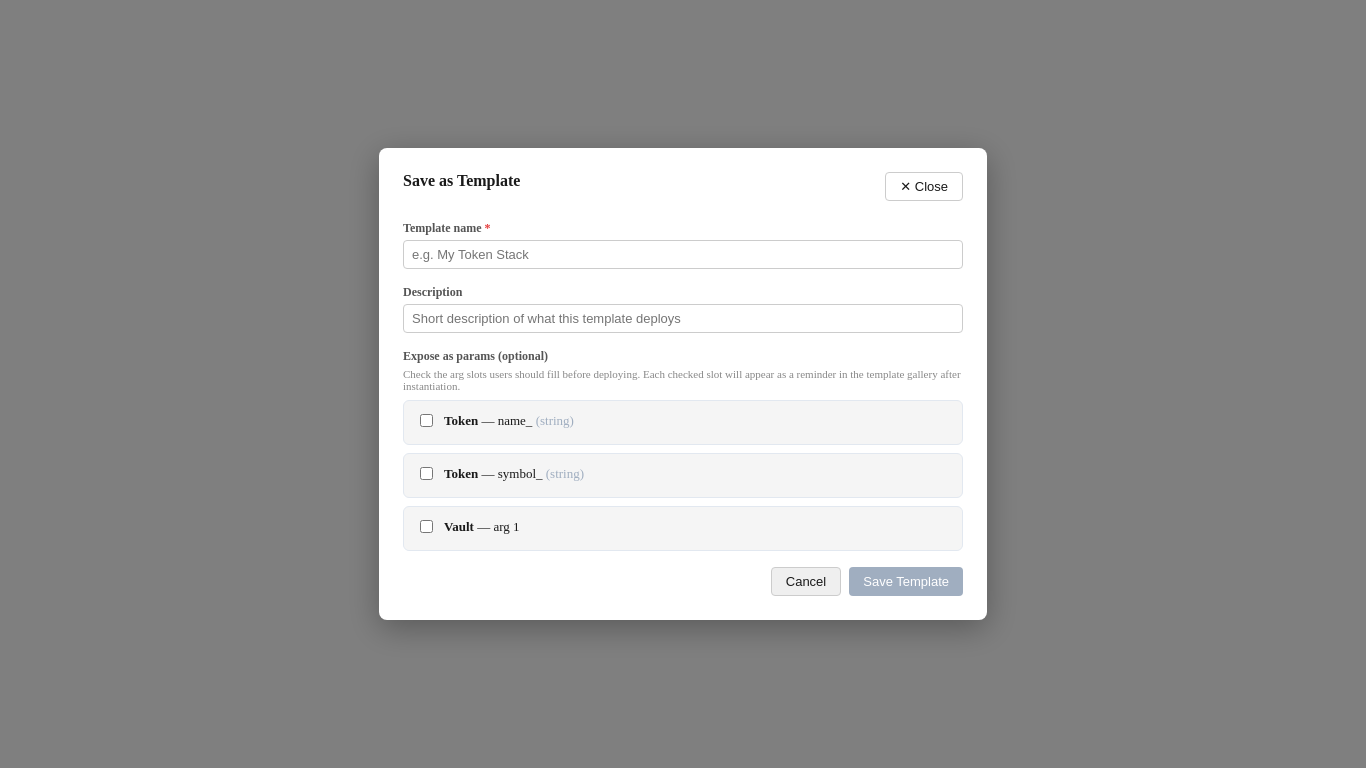
Test: SaveTemplateModal — confirm disabled when name is empty › confirm button is disabled again if name is cleared
The width and height of the screenshot is (1366, 768).
Type "My Template" into the field with test id "save-template-name" at point(683, 254), box [403, 240, 963, 269]
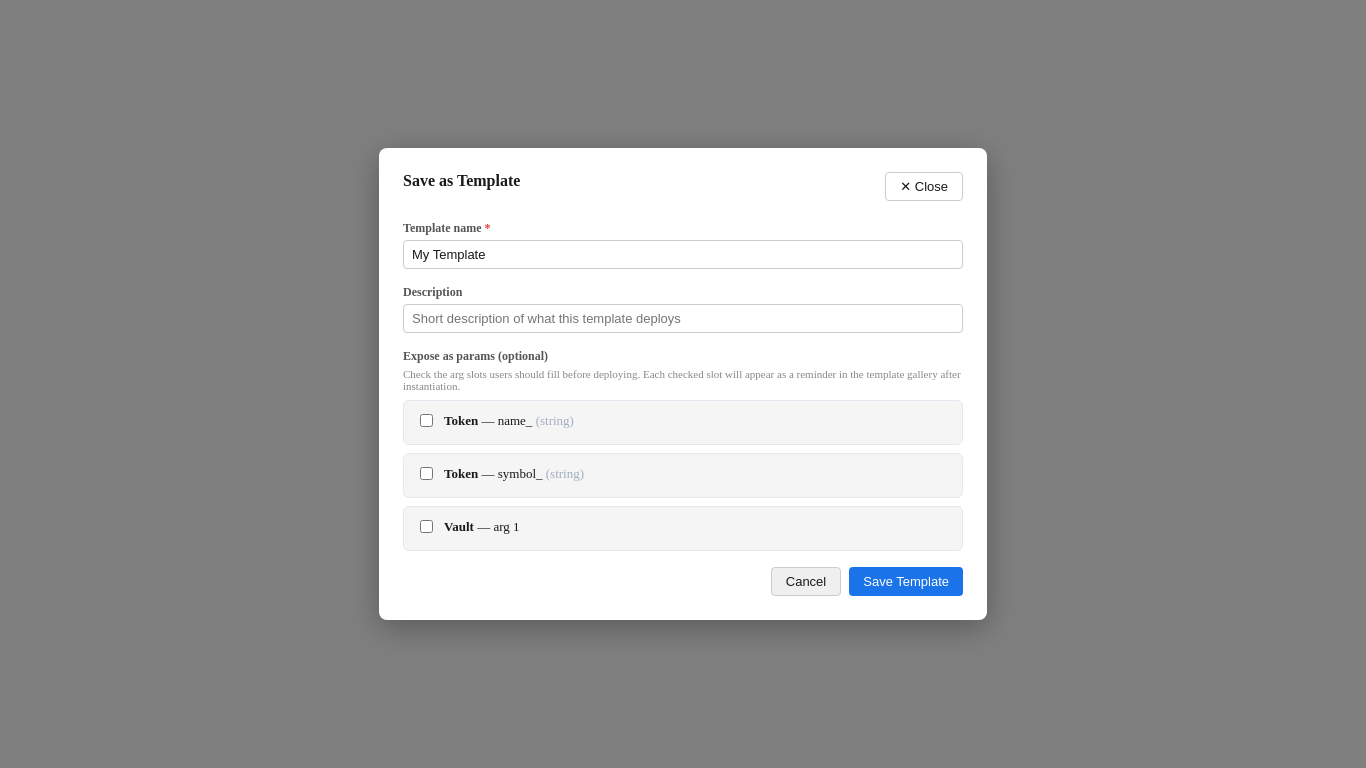
Clear the field with test id "save-template-name" at point(683, 254), box [403, 240, 963, 269]
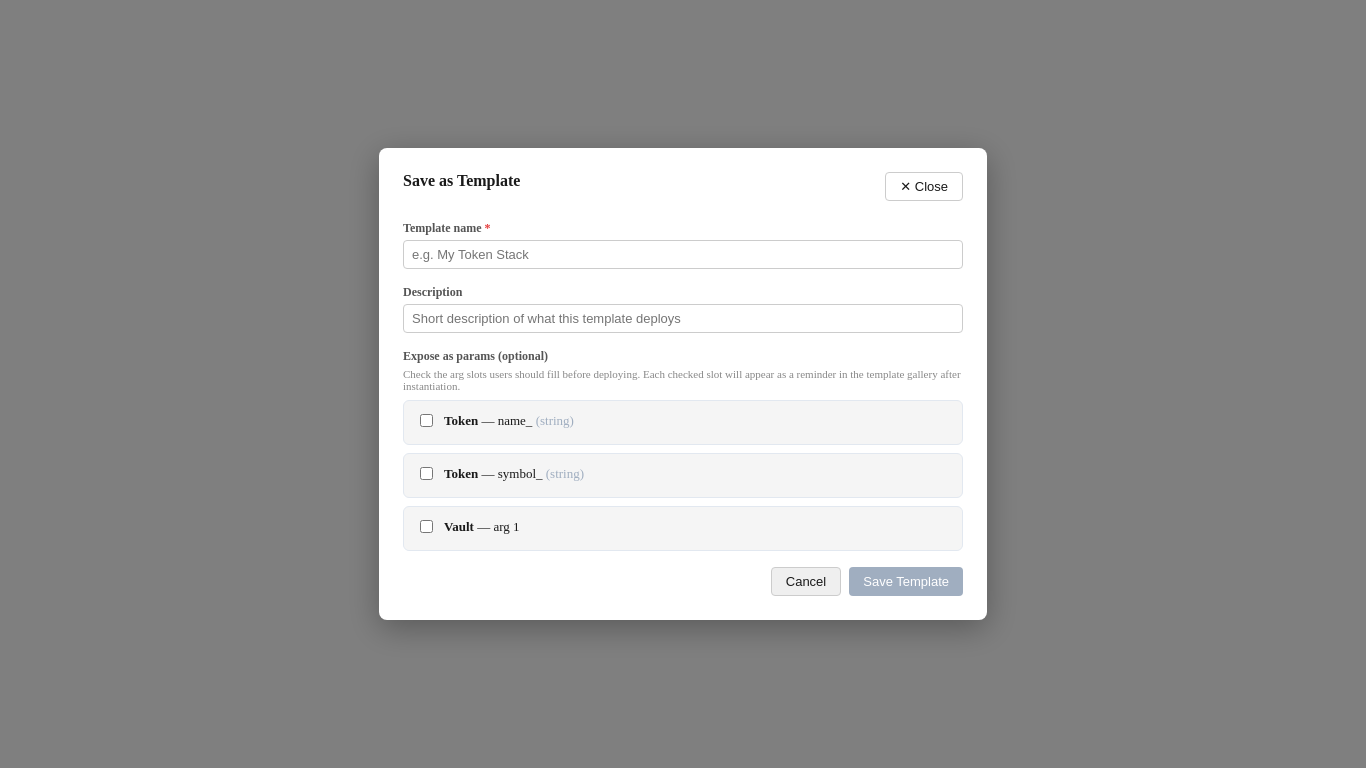
Result: the button with test id "save-template-confirm" is disabled at [849, 567, 963, 596]
